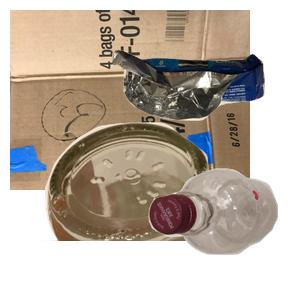cardboard: (10, 10, 250, 190)
glass: (22, 120, 233, 300)
plastic: (146, 166, 300, 300)
trash: (109, 47, 300, 160)
